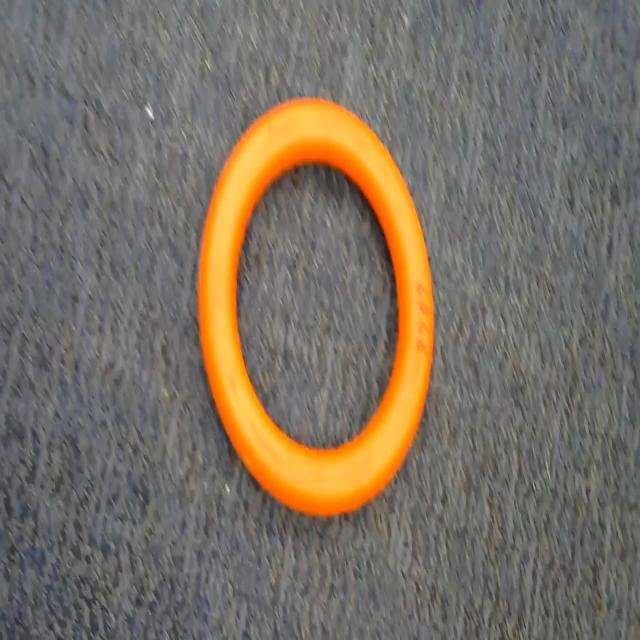note: (194, 84, 444, 529)
